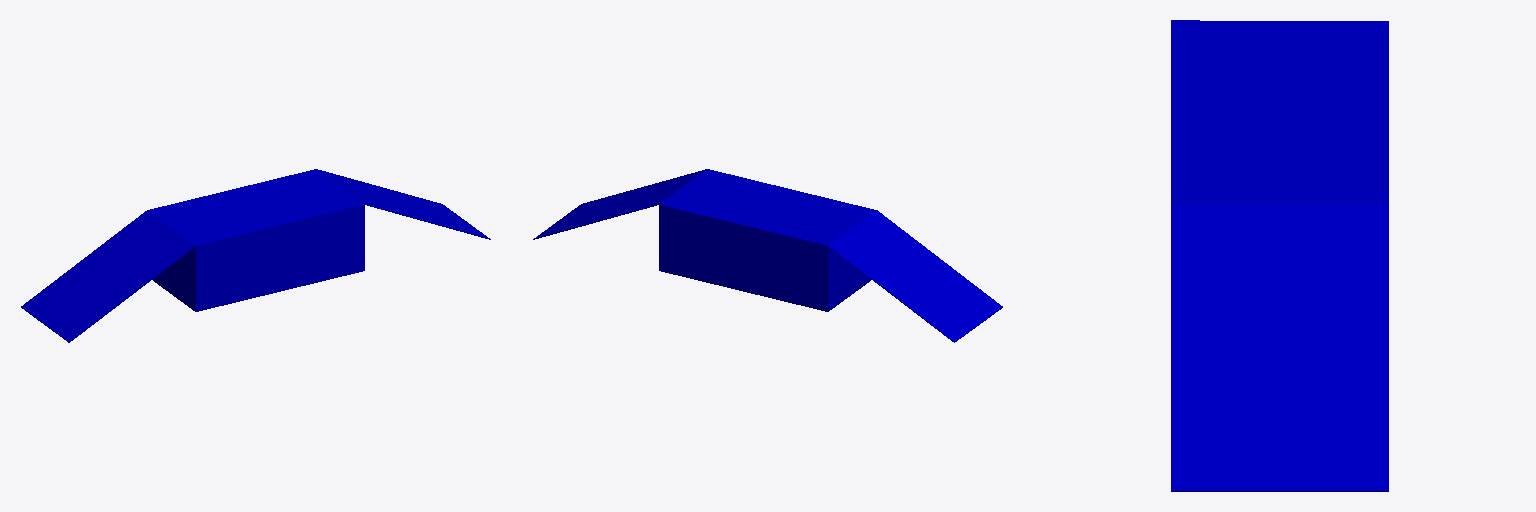
robot.urdf — ramp:
<?xml version="1.0"?>

<robot name="ramp">

    <material name="blue">
        <color rgba="0 0 0.8 1"/>
    </material>

    <!--Definition of the cubic block that joins the two ramps-->

    <link name="cube_block">

        <inertial>
            <origin rpy="0 0 0" xyz="0 0 0"/>
            <mass value="100000.0"/>
            <inertia ixx="1.0" ixy="0.0" ixz="0.0"
                               iyy="1.0" iyz="0.0" 
                                         izz="1.0"/>
        </inertial>

        <visual>        
            <origin rpy="0 0 0" xyz="0 0 0.75"/>
            <geometry>
                <box size="4 2 1.5"/>
            </geometry>
            <material name="blue"/>
        </visual>

        <collision>
            <origin rpy="0 0 0" xyz="0 0 0.75"/>
            <geometry>
                <box size="4 2 1.5"/>
            </geometry>
        </collision>

    </link>

    <!--Definition of the up ramp-->

    <link name="up_ramp">

        <inertial>
            <origin rpy="0 0 0" xyz="0 0 0.5"/>
            <mass value="100000.0" />
            <inertia ixx="1.0" ixy="0.0" ixz="0.0"
                               iyy="1.0" iyz="0.0" 
                                         izz="1.0"/>
        </inertial>

        <visual>        
            <origin rpy="0 0.463 0" xyz="3.447 0.0 0.651"/>
            <geometry>
                <box size="3.35 2 0.01"/>
            </geometry>
            <material name="blue"/>
        </visual>

        <collision>
            <origin rpy="0 0.463 0" xyz="3.447 0.0 0.651"/>
            <geometry>
                <box size="3.35 2 0.01"/>
            </geometry>
        </collision>

    </link>

    <!--Definition of the down ramp-->    

    <link name="down_ramp">

        <inertial>
            <origin rpy="0 0 0" xyz="0 0 0.5"/>
            <mass value="100000.0"/>
            <inertia ixx="1.0" ixy="0.0" ixz="0.0"
                               iyy="1.0" iyz="0.0" 
                                         izz="1.0"/>
        </inertial>

        <visual>        
            <origin rpy="0 0.463 3.14" xyz="-3.547 0 0.651"/>
            <geometry>
                <box size="3.35 2 0.01"/>
            </geometry>
            <material name="blue"/>
        </visual>

        <collision>
            <origin rpy="0 0.463 3.14" xyz="-3.547 0 0.651"/>
            <geometry>
                <box size="3.35 2 0.01"/>
            </geometry>
        </collision>

    </link>

    <!--Definition of the joint between the cubic block and the up ramp-->

    <joint name="cube_block_to_up_ramp" type="fixed">
        <parent link="cube_block"/>
        <child link="up_ramp"/>
        <origin xyz="0.05 0 0.1"/>
        <axis xyz="0 1 0"/>
    </joint>

    <!--Definition of the joint between the cubic block and the down ramp-->

    <joint name="cube_block_to_down_ramp" type="fixed">
        <parent link="cube_block"/>
        <child link="down_ramp"/>
        <origin xyz="0.05 0 0.1"/>
        <axis xyz="0 1 0"/>
    </joint>

</robot>

--- What the picture shows (computed from the rendered views, not written in the file) ---
Views: 3 orthographic renders of the robot side by side, from view 1: azimuth 30°, elevation 25°; view 2: azimuth 150°, elevation 25°; view 3: azimuth 270°, elevation 25°.
Robot: ramp — 3 links, 2 joints (2 fixed); root link cube_block; default pose: all joints at 0.
Visible links, largest first — view 1: cube_block, down_ramp, up_ramp; view 2: cube_block, down_ramp, up_ramp; view 3: up_ramp, cube_block.
Boxes of the visible links, x1,y1,x2,y2 form: cube_block: (148, 169, 364, 311); down_ramp: (21, 210, 195, 342); up_ramp: (317, 169, 490, 239); cube_block: (659, 169, 875, 311); down_ramp: (828, 210, 1002, 342); up_ramp: (533, 169, 706, 239); up_ramp: (1171, 205, 1388, 491); cube_block: (1171, 21, 1388, 204).
Bounding box of the posed robot: 10 × 2 × 1.51 m (x, y, z).
Geometry: primitives only (box / cylinder / sphere), no mesh files.